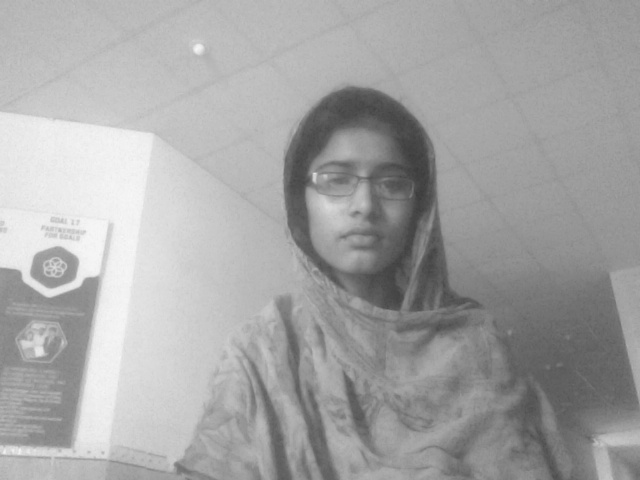Face: (126, 4, 535, 351)
